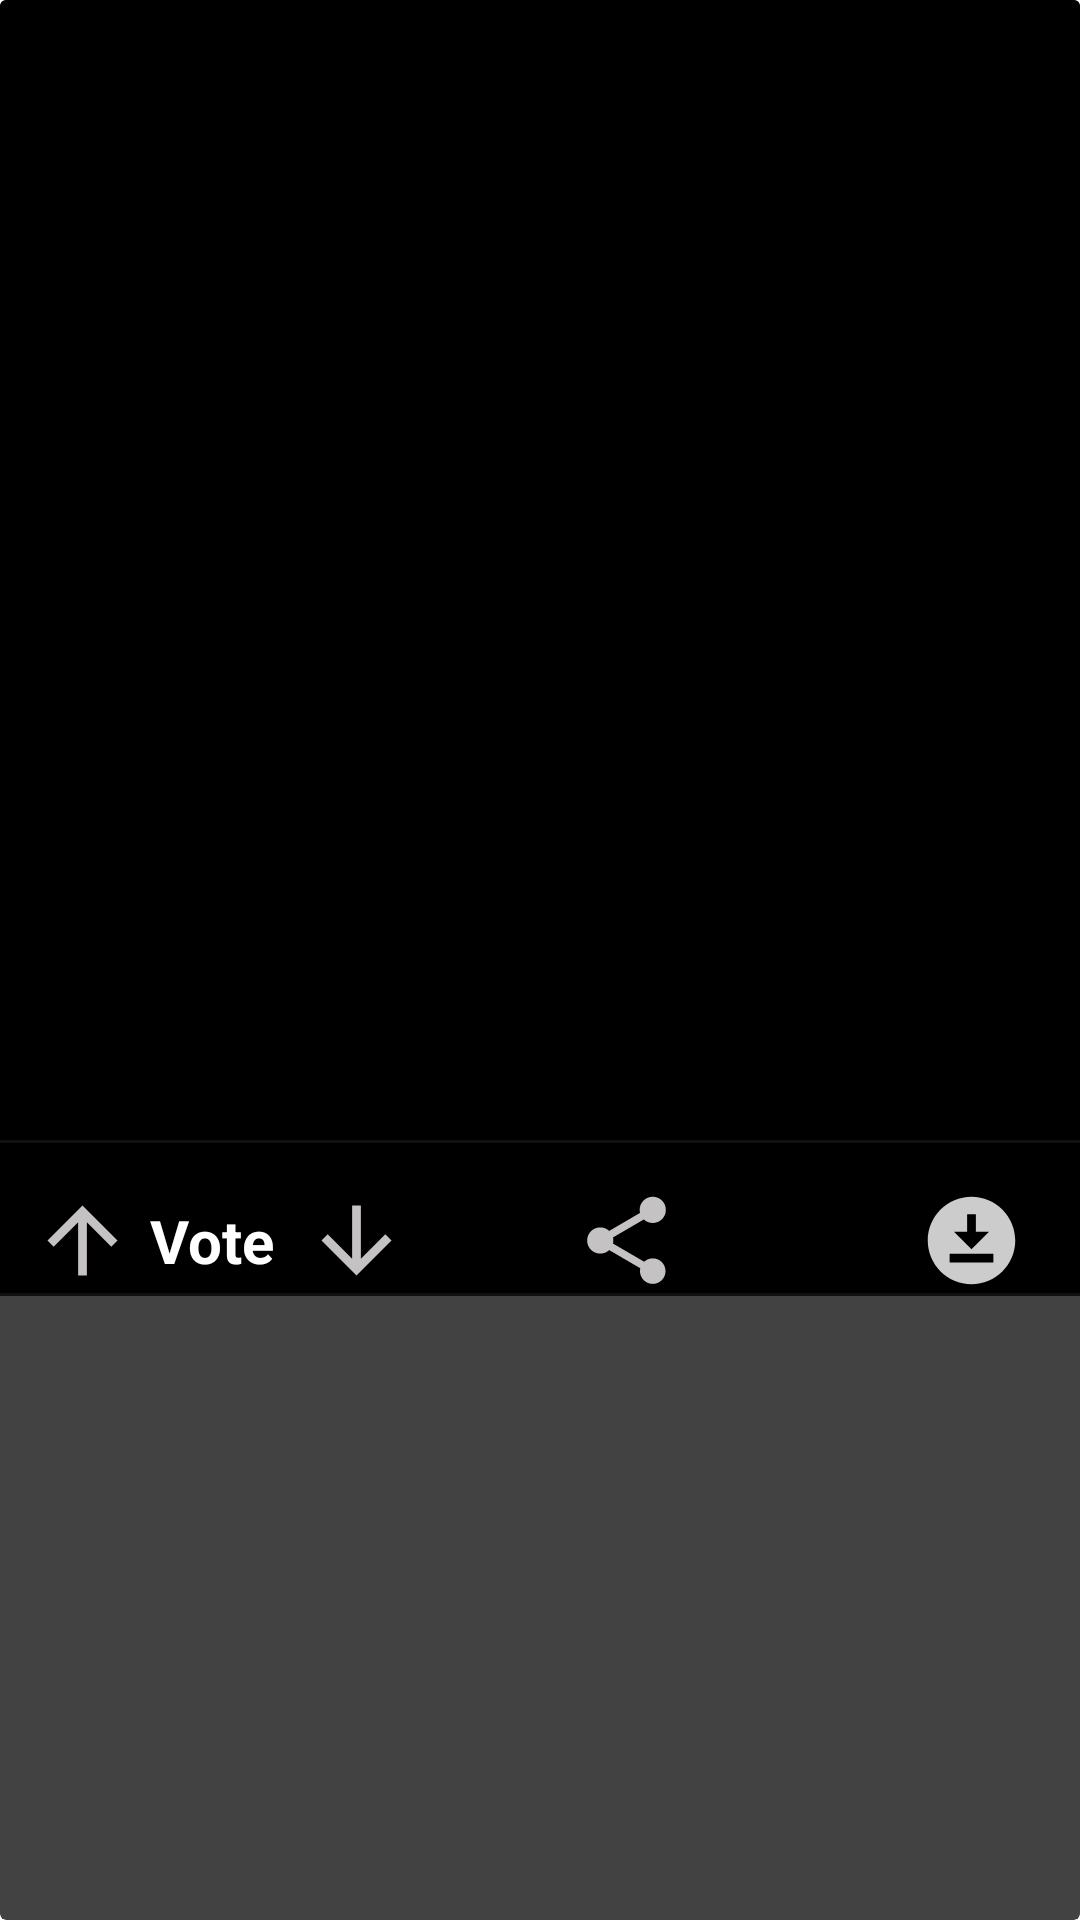

Icons on this 1080*1920 Android screen, each with its box as [x1,y1,x2,y2]:
dislike: [321,1205,392,1276]
download: [927,1196,1016,1285]
like: [47,1205,118,1276]
share: [587,1196,666,1284]
